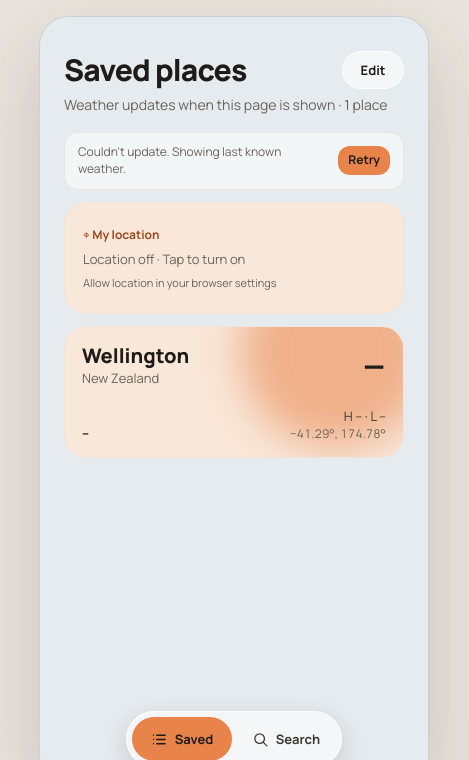
Test: App forecast flow › keeps the last weather and retries when the dashboard refresh fails
Expected: the text "Couldn't update. Showing last known weather." is shown, [78,143,281,177]
Expected: the text "Wellington" is shown, [82,342,189,369]
Click the button "Retry" at (364, 161), box [338,146,390,175]
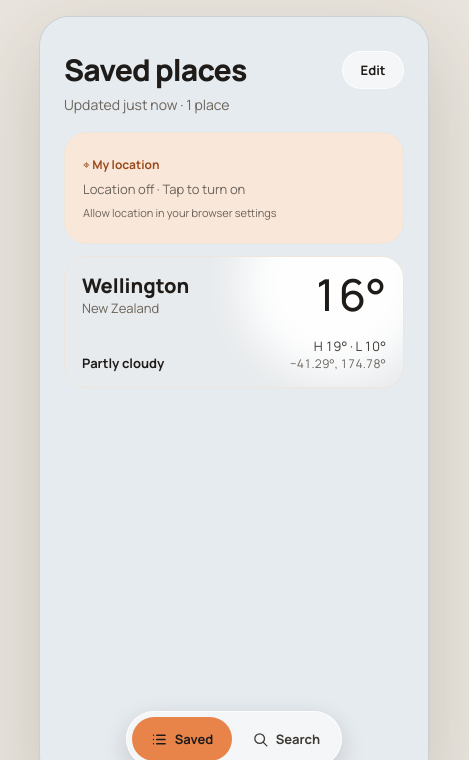
Result: the button "Retry" is gone
